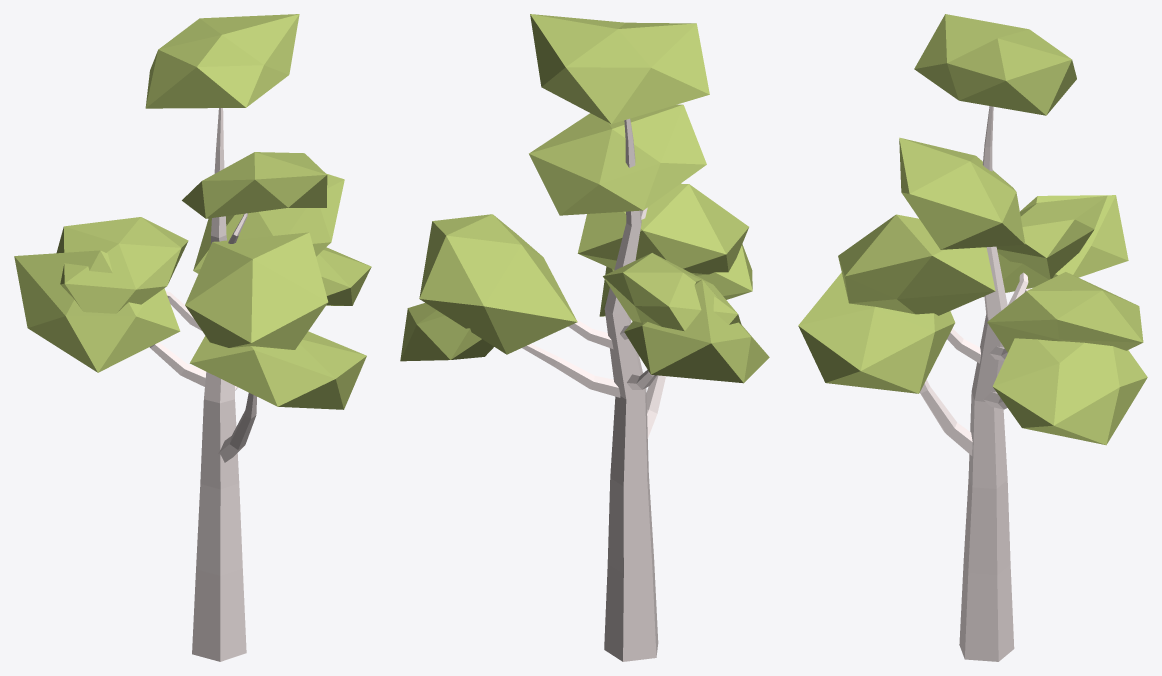
File: Birch_005.fbx
3 views of the same model, side by side, from view 1: azimuth 30°, elevation 25°; view 2: azimuth 150°, elevation 25°; view 3: azimuth 270°, elevation 25° (orthographic). The views are drawn at different scales.
Parts seen in each view (by area): view 1: Birch.005; view 2: Birch.005; view 3: Birch.005.
Boxes of the visible parts, x1,y1,x2,y2 form: Birch.005: (14, 14, 371, 661); Birch.005: (400, 14, 769, 661); Birch.005: (798, 14, 1147, 661).
Bounding box in the file's own units: 3.76 × 6.51 × 3.34.
